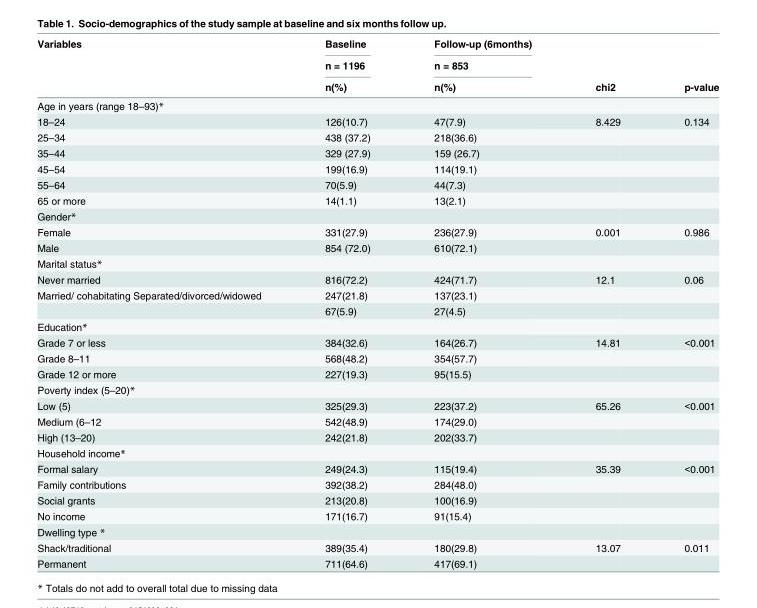table: (36, 37, 718, 568)
table column: (36, 37, 292, 568), (401, 37, 562, 568), (292, 37, 401, 568), (562, 37, 651, 568), (651, 37, 718, 568)
table column header: (36, 37, 718, 95)
table projected row header: (36, 95, 718, 113), (36, 207, 718, 223), (36, 255, 718, 271), (36, 318, 718, 334), (36, 381, 718, 397), (36, 444, 718, 460), (36, 523, 718, 539)
table row: (36, 53, 718, 75), (36, 75, 718, 95), (36, 95, 718, 113), (36, 37, 718, 53), (36, 113, 718, 129), (36, 144, 718, 160), (36, 160, 718, 176), (36, 176, 718, 192), (36, 207, 718, 223), (36, 223, 718, 239), (36, 239, 718, 255), (36, 255, 718, 271), (36, 286, 718, 302), (36, 302, 718, 318), (36, 318, 718, 334), (36, 334, 718, 350), (36, 365, 718, 381), (36, 381, 718, 397), (36, 397, 718, 413), (36, 428, 718, 444), (36, 444, 718, 460), (36, 460, 718, 476), (36, 476, 718, 492), (36, 507, 718, 523), (36, 523, 718, 539), (36, 539, 718, 555), (36, 129, 718, 144), (36, 192, 718, 207), (36, 271, 718, 286), (36, 350, 718, 365), (36, 413, 718, 428), (36, 492, 718, 507), (36, 555, 718, 568)
table spanning cell: (36, 37, 292, 95), (401, 37, 562, 95), (36, 286, 292, 318), (292, 37, 401, 95), (562, 37, 651, 95), (651, 37, 718, 95)
